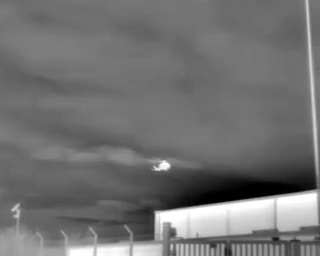HELICOPTER: (146, 153, 176, 177)
